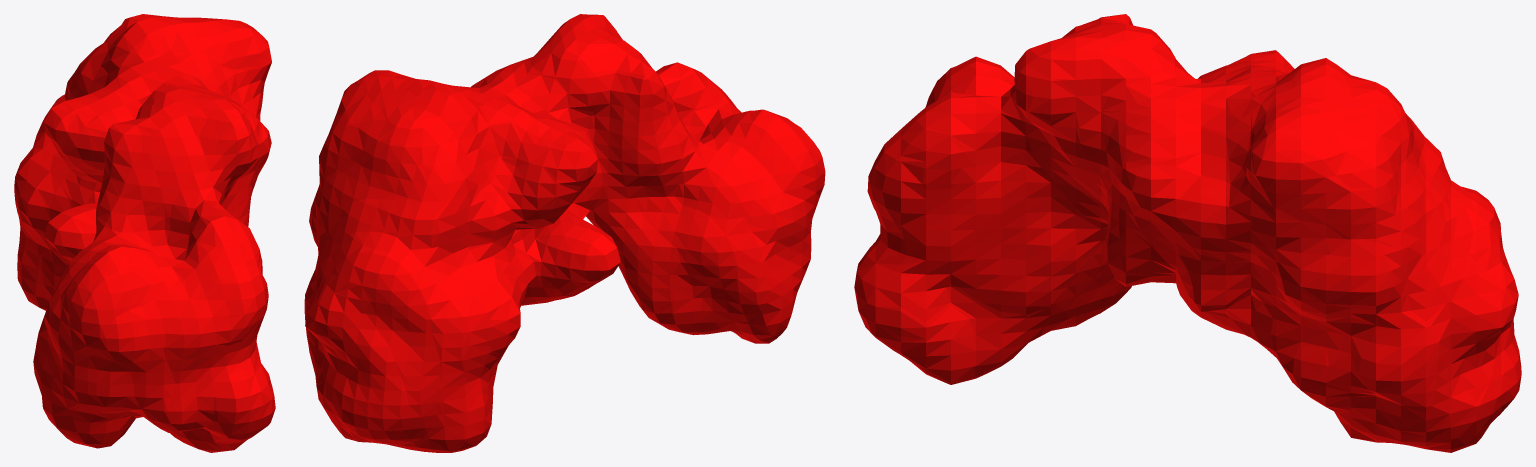
Rendered from purH_coarse.dae.
The picture shows the model from 3 angles, left to right: view 1: azimuth 30°, elevation 25°; view 2: azimuth 150°, elevation 25°; view 3: azimuth 270°, elevation 25°; orthographic projection. The views are drawn at different scales.
Parts seen in each view (by area): view 1: purH; view 2: purH; view 3: purH.
Boxes of the visible parts, bbox=[...] form: purH: bbox=[14, 14, 275, 452]; purH: bbox=[304, 14, 825, 452]; purH: bbox=[854, 14, 1521, 452].
Size of the model in its own units: 66.12 by 60.64 by 95.6.
